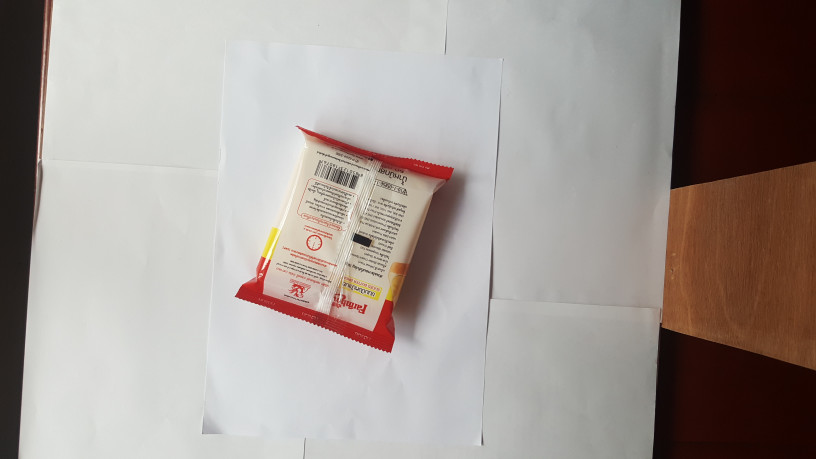farmhouse-bread-butter: (232, 115, 461, 356)
